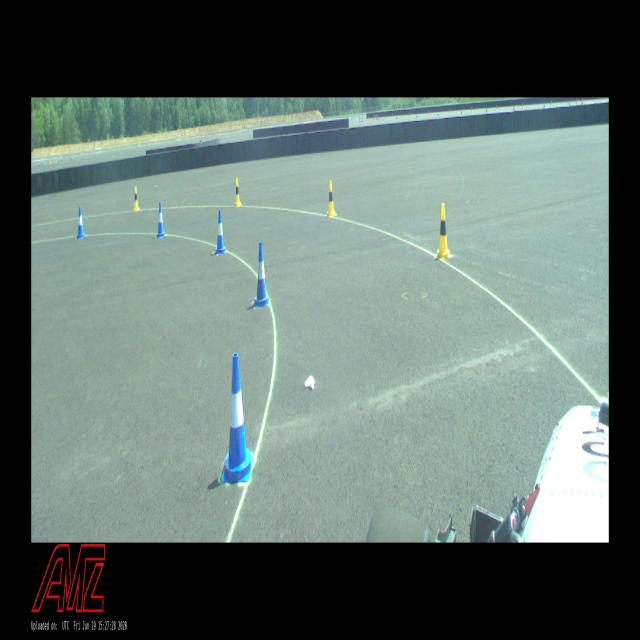blue_cone: (222, 353, 254, 482), (254, 242, 269, 308), (215, 210, 228, 254), (156, 202, 166, 237), (76, 207, 85, 238)
yellow_cone: (436, 204, 451, 259), (327, 180, 338, 217), (234, 178, 242, 206), (134, 186, 140, 211)
